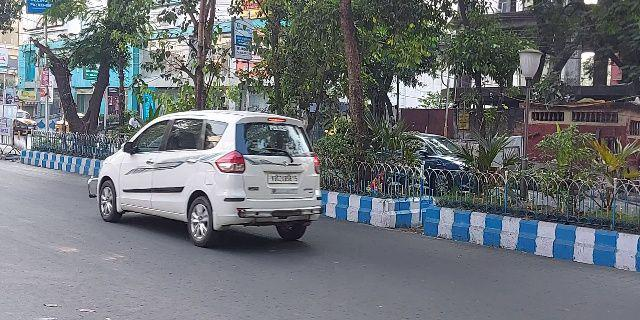Car: (85, 108, 323, 246)
